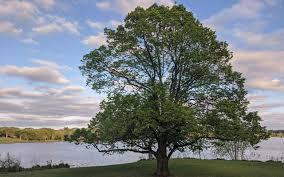tree: (82, 3, 273, 174)
